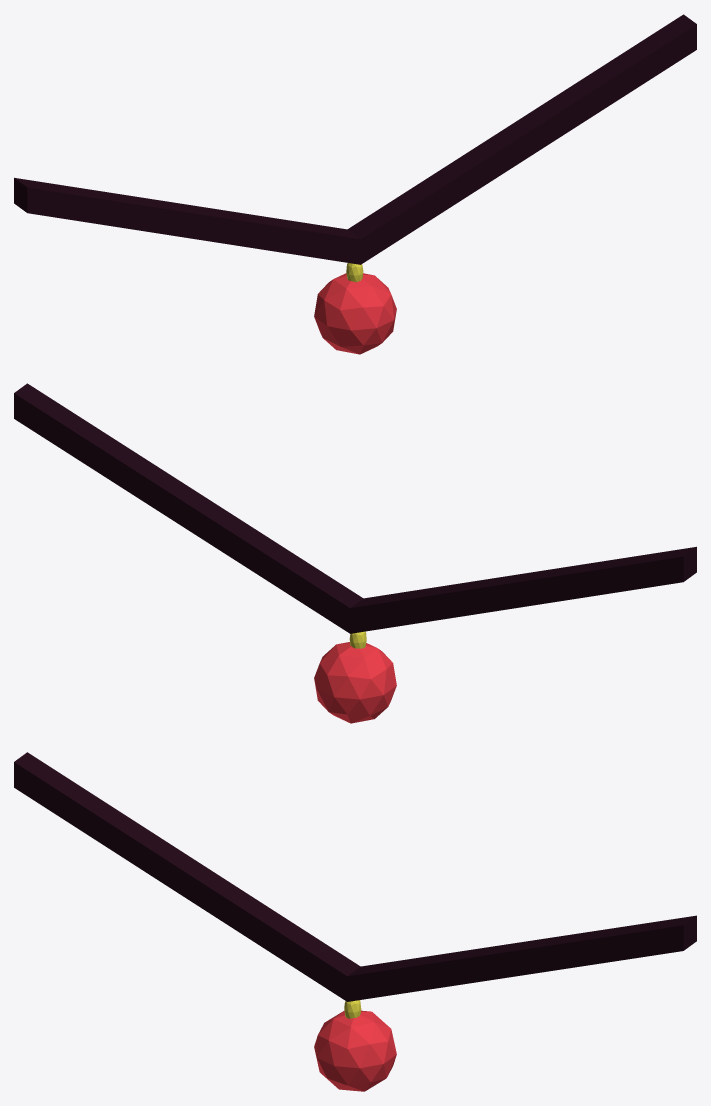
The model's file is luzinha1.fbx.
3 views of the same model, one above another, from view 1: azimuth 30°, elevation 25°; view 2: azimuth 150°, elevation 25°; view 3: azimuth 330°, elevation 25° (orthographic).
Parts seen in each view (by area): view 1: Icosphere; view 2: Icosphere; view 3: Icosphere.
Part boxes in pixels (x1,y1,x2,y2): Icosphere: (14, 14, 696, 354); Icosphere: (14, 383, 696, 723); Icosphere: (14, 752, 696, 1091).
Bounding box in the file's own units: 200 × 71.41 × 21.91.
